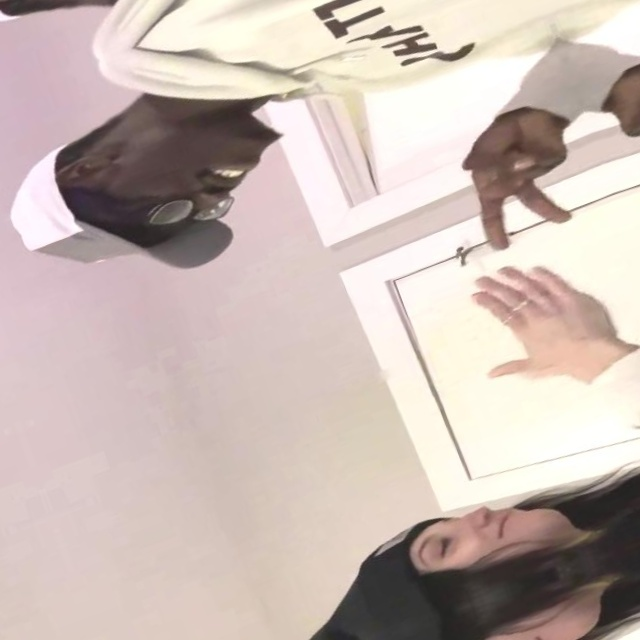Paper: (454, 237, 629, 403)
Scissors: (445, 97, 606, 257)
